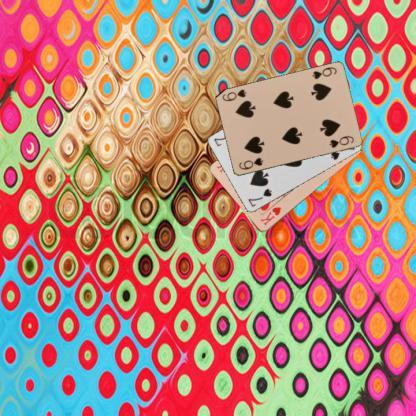6s: (235, 155, 264, 171), (310, 65, 337, 80)
7s: (245, 186, 272, 209)
Kh: (258, 204, 282, 228)
